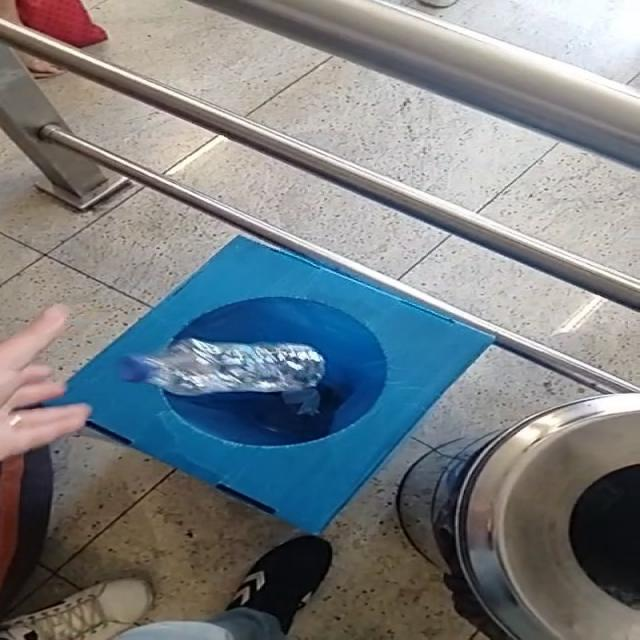plastic: (120, 339, 325, 416)
